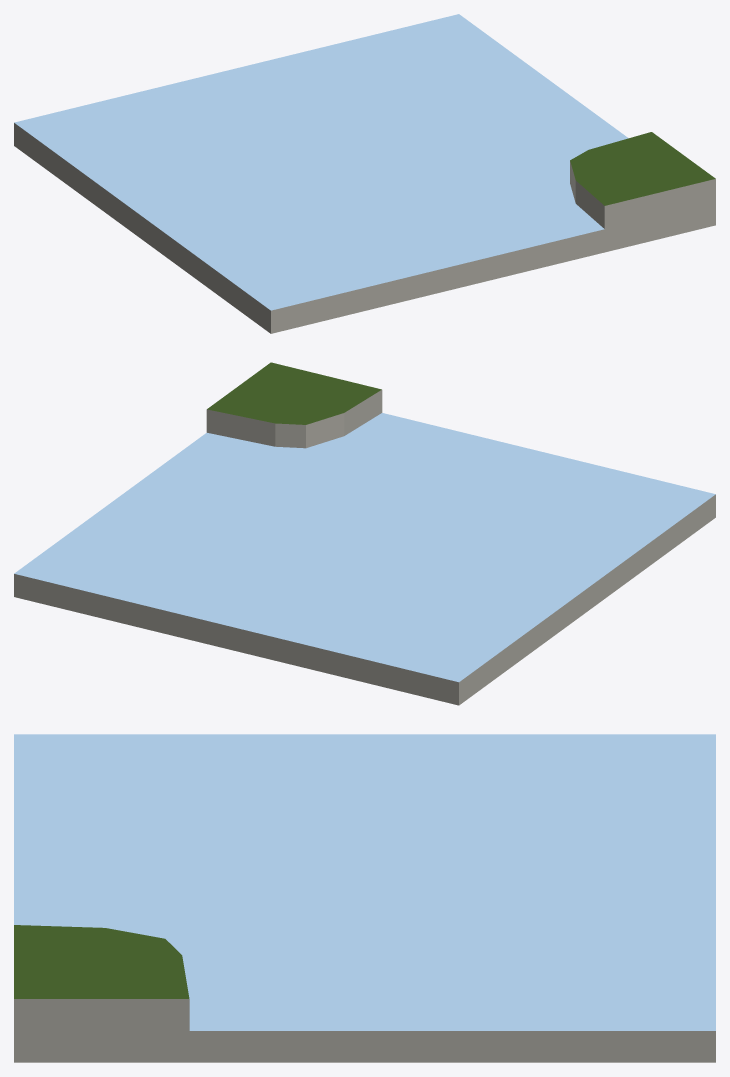
The model's file is Terrain_Modular_Tiles_Grass_Rock_Water_Edge_Corner_Inner_03.fbx.
The picture shows the model from 3 angles, top to bottom: view 1: azimuth 30°, elevation 25°; view 2: azimuth 150°, elevation 25°; view 3: azimuth 270°, elevation 25°; orthographic projection. The views are drawn at different scales.
Visible parts, largest first — view 1: Terrain_Modular_Tiles_Grass_Rock_Water_Edge_Corner_Inner_03; view 2: Terrain_Modular_Tiles_Grass_Rock_Water_Edge_Corner_Inner_03; view 3: Terrain_Modular_Tiles_Grass_Rock_Water_Edge_Corner_Inner_03.
Boxes of the visible parts, bbox=[...] form: Terrain_Modular_Tiles_Grass_Rock_Water_Edge_Corner_Inner_03: bbox=[14, 14, 715, 333]; Terrain_Modular_Tiles_Grass_Rock_Water_Edge_Corner_Inner_03: bbox=[14, 362, 715, 705]; Terrain_Modular_Tiles_Grass_Rock_Water_Edge_Corner_Inner_03: bbox=[14, 734, 715, 1062].
Bounding box in the file's own units: 3000 × 300 × 3000.
